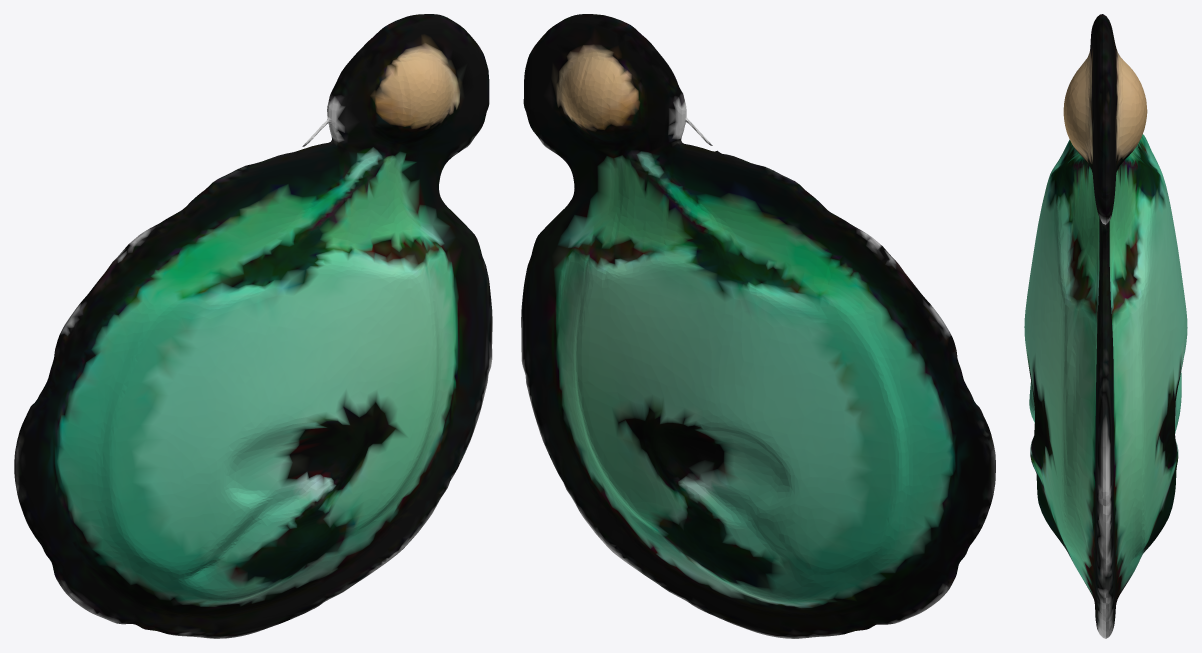
The model's file is potionint.glb.
3 renders of one model, left to right at view 1: azimuth 30°, elevation 25°; view 2: azimuth 150°, elevation 25°; view 3: azimuth 270°, elevation 25°, orthographic. The views are drawn at different scales.
Parts seen in each view (by area): view 1: geometry_0; view 2: geometry_0; view 3: geometry_0.
Part boxes in pixels (x1,y1,x2,y2): geometry_0: [14, 14, 492, 638]; geometry_0: [521, 14, 995, 638]; geometry_0: [1024, 14, 1187, 638].
Bounding box in the file's own units: 0.375 × 0.4366 × 0.0957.
